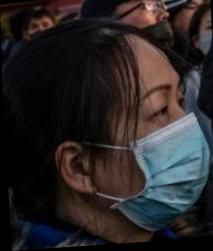OK: (94, 64, 213, 237)
WRONG: (123, 1, 175, 58)
